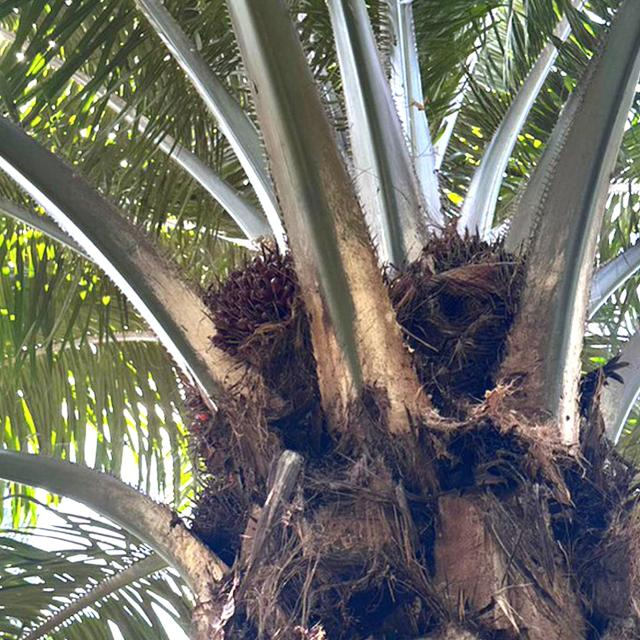ripe: (385, 215, 536, 412), (196, 237, 321, 383)
